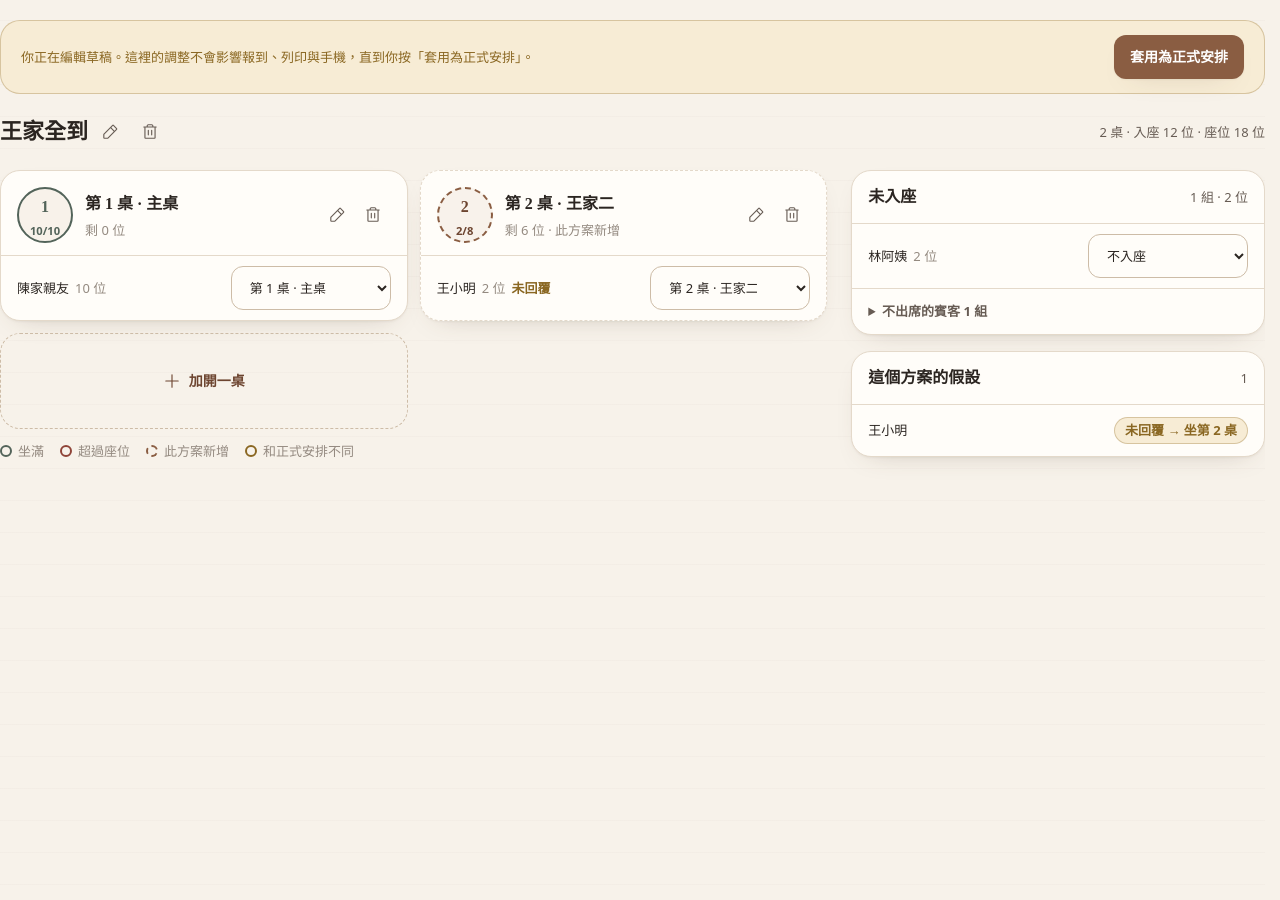
Test: SeatingScenarioEditor › 確認框列出換桌、新增桌次與不會入座的人，並帶上看過的正式安排指紋
The image size is (1280, 900).
Step 1. Click the button "套用為正式安排" → (1179, 57), box [1114,35,1244,79]
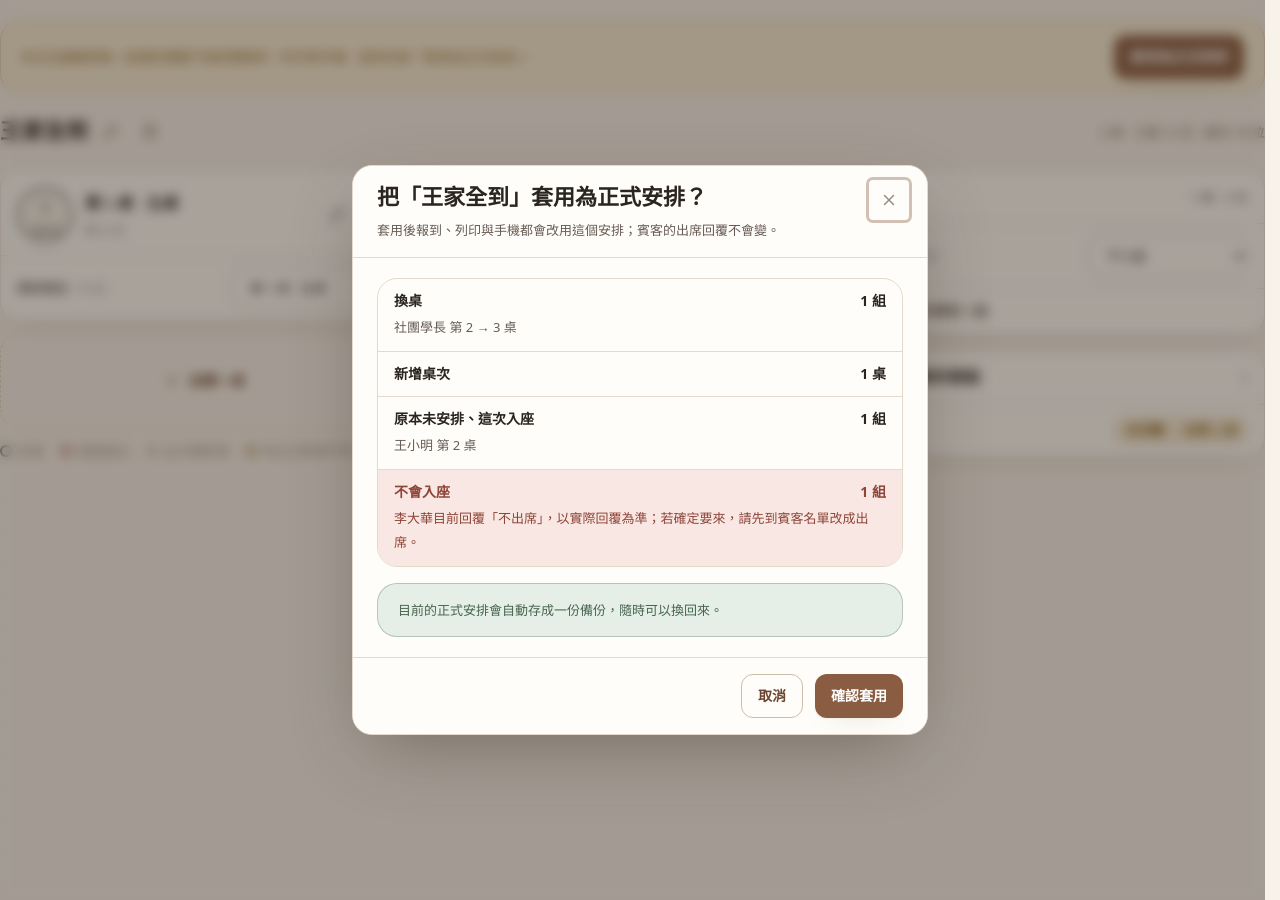
Check: the text "社團學長 第 2 → 3 桌" is shown, box [394,318,517,336]
Check: the text "新增桌次" is shown, box [394,364,450,384]
Check: the text "不會入座" is shown, box [394,482,450,502]
